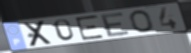0: (53, 18, 76, 42)
4: (159, 6, 179, 31)
E: (100, 11, 132, 38), (74, 14, 106, 41)
O: (129, 9, 155, 33)
X: (23, 19, 55, 48)
